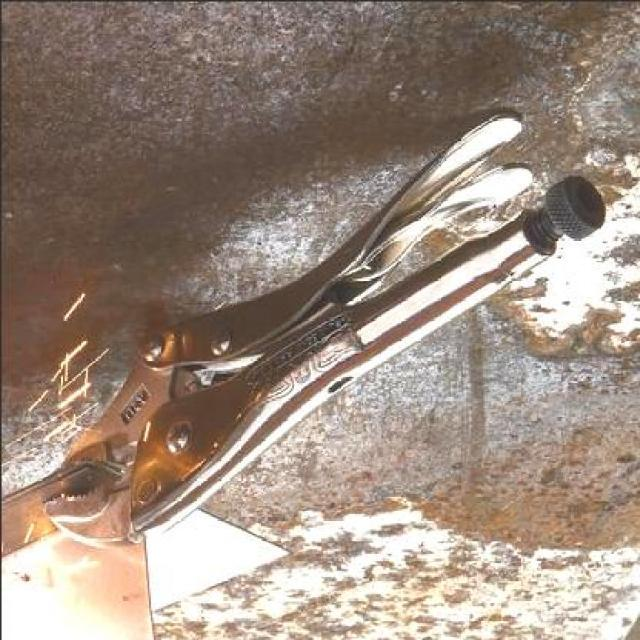pliers: (44, 110, 607, 550)
